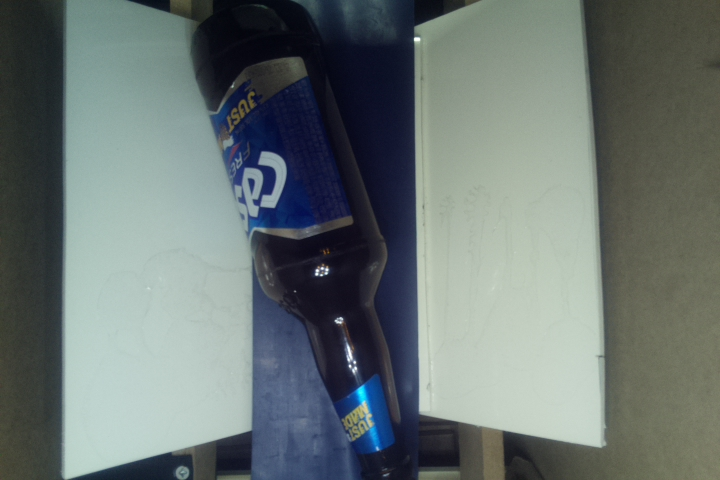makju: (188, 2, 424, 478)
